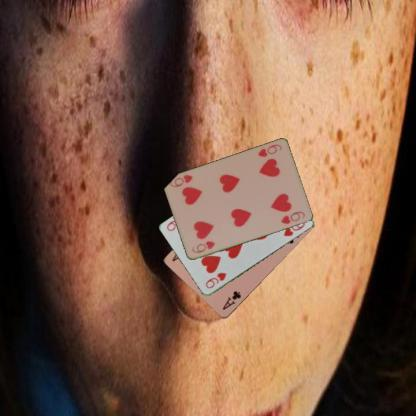6h: (188, 238, 216, 255), (256, 142, 283, 158)
9h: (203, 270, 228, 290)
Ac: (220, 288, 242, 312)
